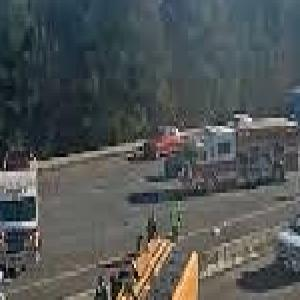critical: (52, 218, 208, 300)
